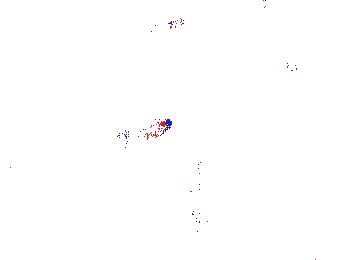red belly glassfish: (117, 116, 174, 145), (152, 17, 187, 32), (267, 61, 300, 74), (254, 1, 278, 13)
redtail glassfish: (185, 160, 208, 225)
siberian prawn: (33, 226, 107, 254)
